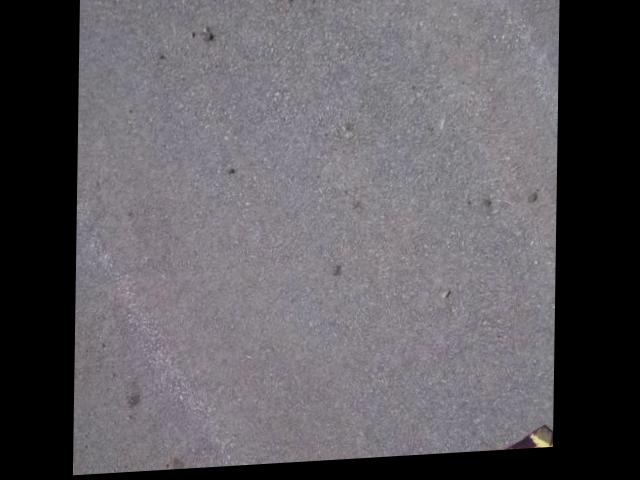fire-poster: (411, 429, 554, 461)
